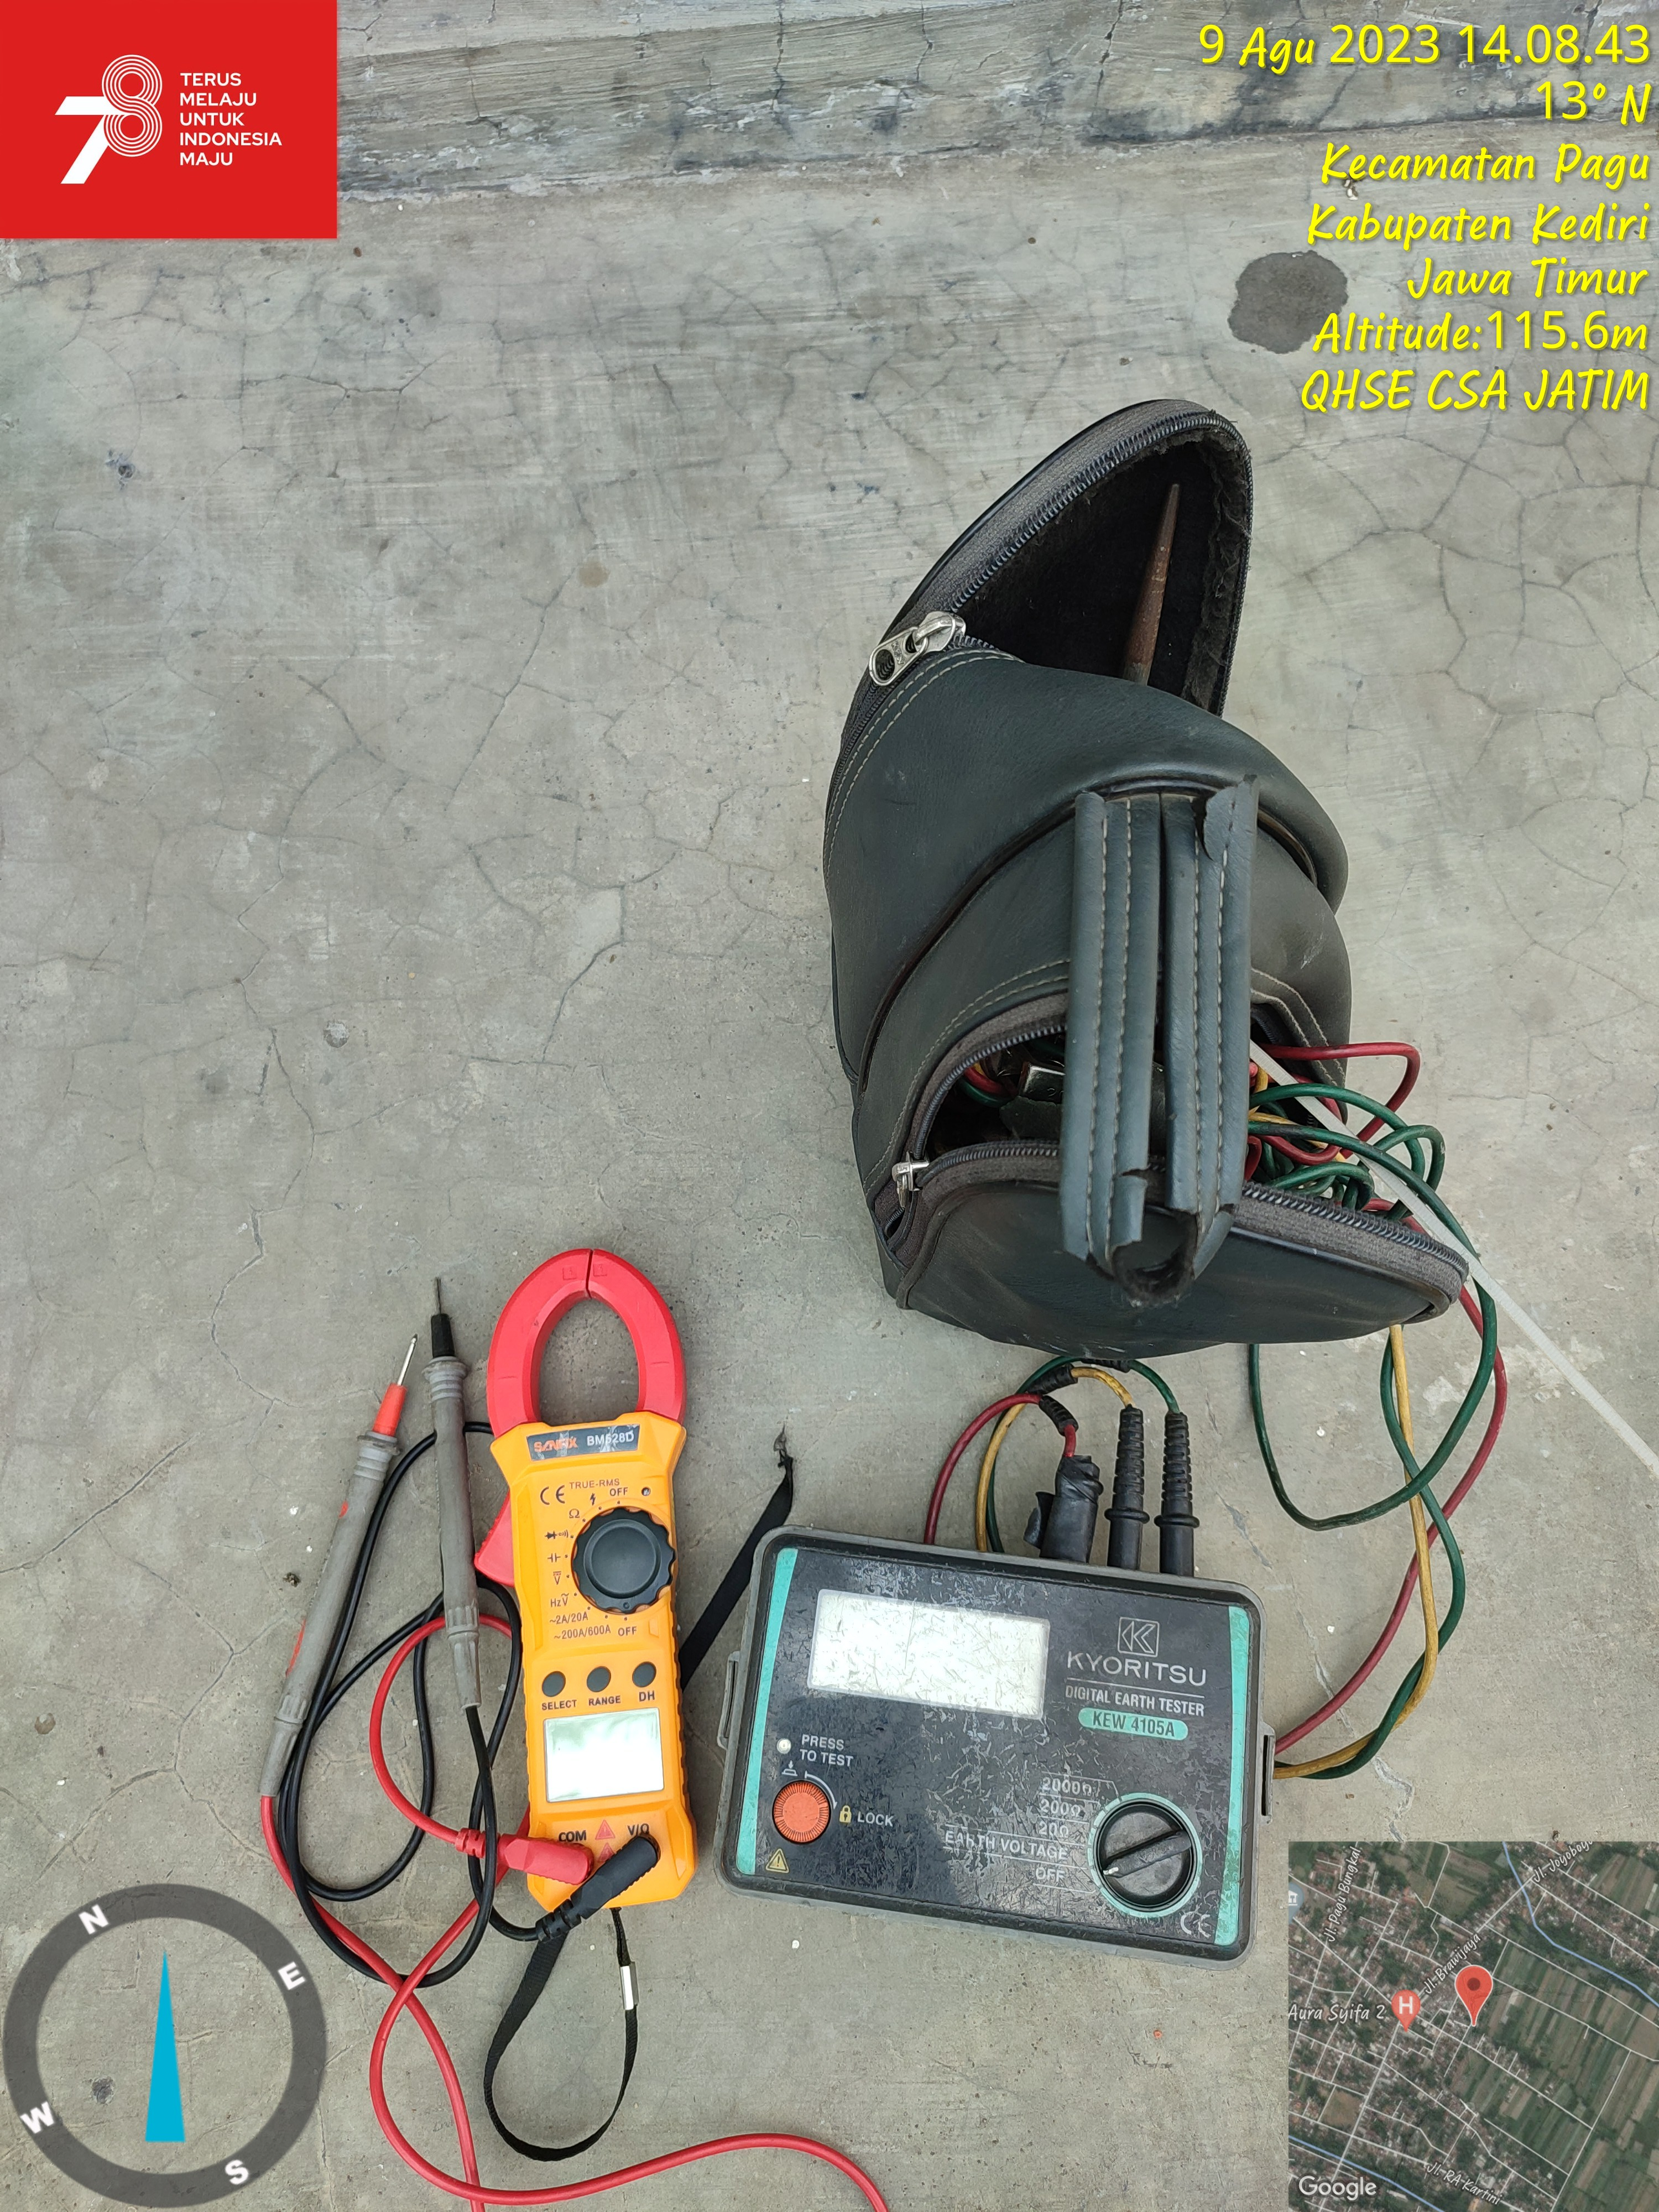EARTH_GROUNDING_TESTER: (714, 1527, 1265, 1966)
TANG_AMPERE: (462, 1242, 706, 1912)
